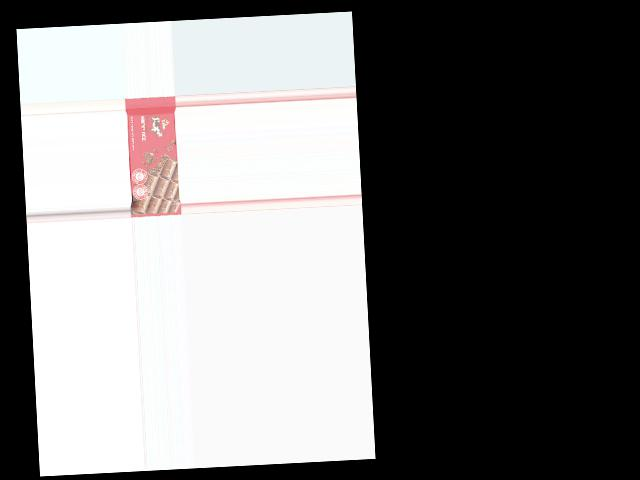chocolate: (124, 95, 180, 216)
